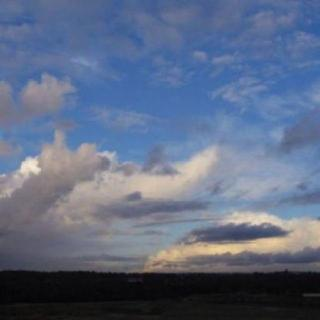Stratocumulus: (0, 2, 320, 264)
